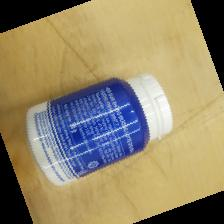Xylitol_blue: (24, 74, 175, 186)
